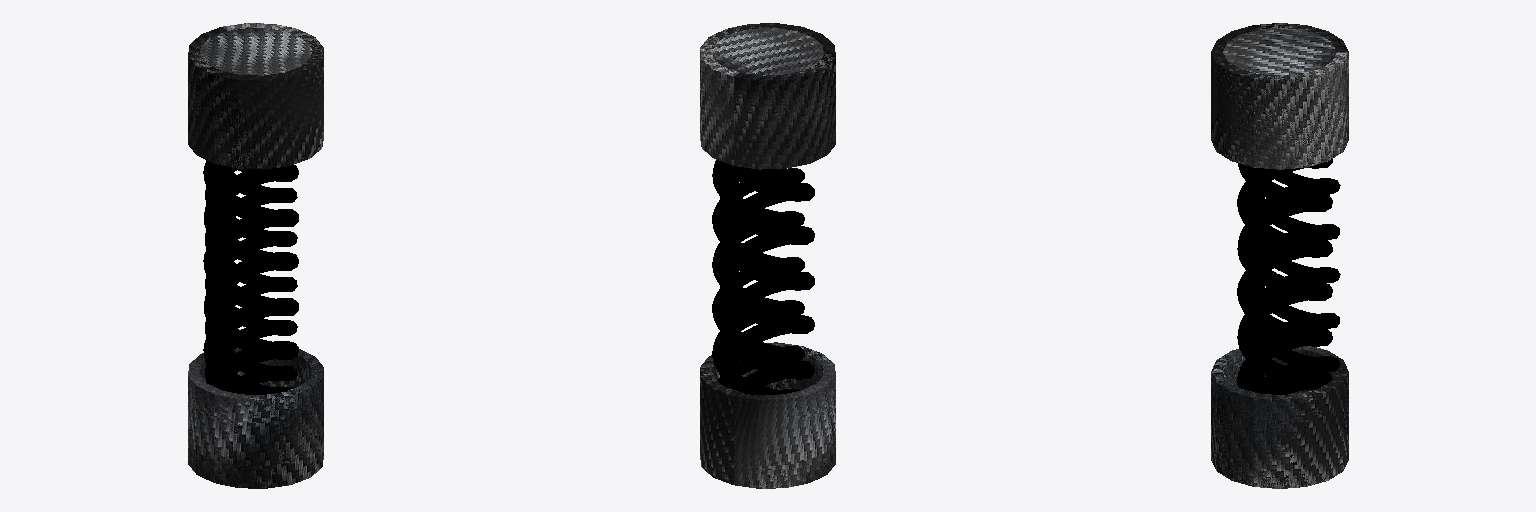
3 views of the same model, side by side, from view 1: azimuth 30°, elevation 25°; view 2: azimuth 150°, elevation 25°; view 3: azimuth 270°, elevation 25° (orthographic).
Visible parts, largest first — view 1: group tubo1:Cap, group tubo1:Spiral_Glass, group tubo1:Cap_High_Poly, tubo1:Spiral group; view 2: group tubo1:Cap, tubo1:Spiral group, group tubo1:Spiral_Glass, group tubo1:Cap_High_Poly; view 3: group tubo1:Cap, group tubo1:Cap_High_Poly, group tubo1:Spiral_Glass, tubo1:Spiral group.
Part boxes in pixels (x1,y1,x2,y2): group tubo1:Cap: (188, 23, 323, 488); group tubo1:Spiral_Glass: (203, 161, 298, 394); group tubo1:Cap_High_Poly: (188, 23, 323, 488); tubo1:Spiral group: (205, 160, 297, 392); group tubo1:Cap: (700, 23, 835, 488); tubo1:Spiral group: (712, 160, 804, 394); group tubo1:Spiral_Glass: (720, 162, 814, 391); group tubo1:Cap_High_Poly: (700, 23, 835, 488); group tubo1:Cap: (1211, 23, 1348, 488); group tubo1:Cap_High_Poly: (1211, 23, 1348, 488); group tubo1:Spiral_Glass: (1237, 159, 1332, 393); tubo1:Spiral group: (1247, 168, 1340, 394).
Bounding box in the file's own units: 0.0536 × 0.1758 × 0.0536.
Materials: 3 (1 with a texture image).